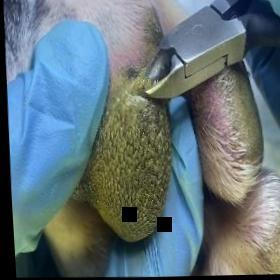keratosis: (72, 92, 176, 244)
